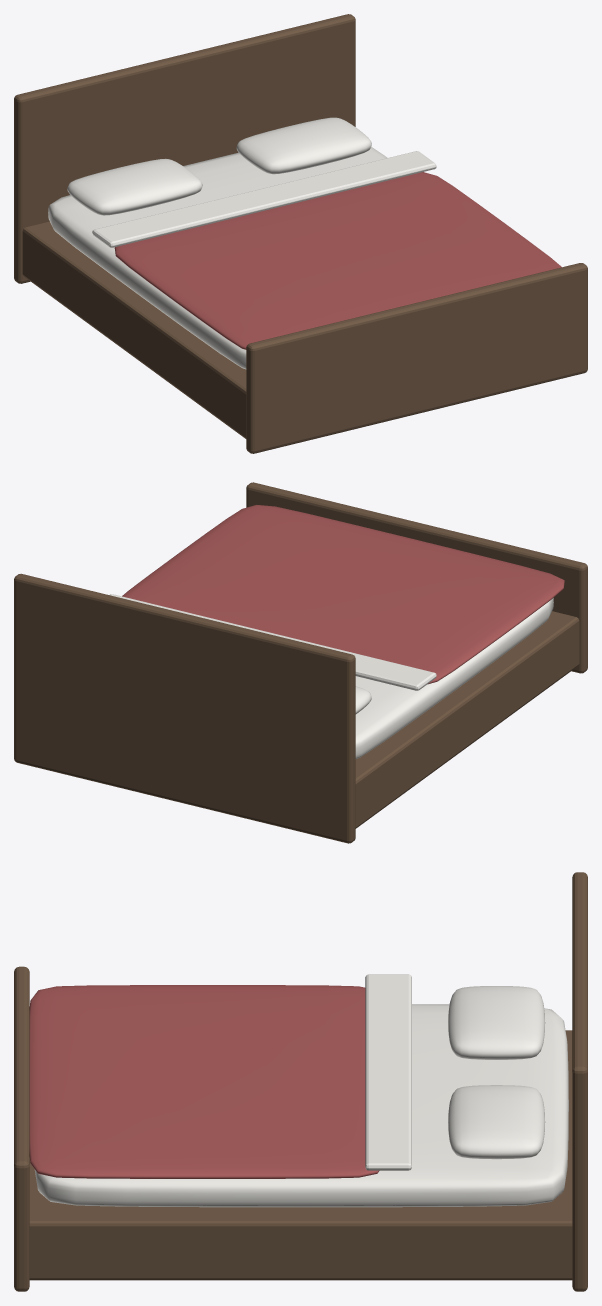
The model's file is bed_double.glb.
The picture shows the model from 3 angles, top to bottom: view 1: azimuth 30°, elevation 25°; view 2: azimuth 150°, elevation 25°; view 3: azimuth 270°, elevation 25°; orthographic projection. The views are drawn at different scales.
Visible parts, largest first — view 1: blanket, foot, head, frame, mattress, fold, pillow.001, pillow; view 2: head, blanket, frame, foot, mattress, fold; view 3: blanket, frame, mattress, fold, pillow.001, pillow, head, foot.
Part boxes in pixels (x1,y1,x2,y2): blanket: (114, 172, 561, 349); foot: (246, 263, 587, 453); head: (14, 14, 355, 283); frame: (22, 221, 246, 438); mattress: (48, 146, 387, 369); fold: (92, 151, 436, 247); pillow.001: (236, 117, 371, 174); pillow: (67, 158, 202, 215); head: (14, 573, 355, 843); blanket: (122, 505, 564, 684); frame: (355, 611, 579, 828); foot: (246, 482, 587, 673); mattress: (355, 598, 553, 758); fold: (109, 594, 436, 690); blanket: (29, 985, 379, 1178); frame: (29, 1030, 572, 1280); mattress: (34, 1004, 568, 1207); fold: (365, 974, 411, 1170); pillow.001: (448, 1085, 545, 1159); pillow: (448, 986, 545, 1059); head: (572, 872, 587, 1291); foot: (14, 966, 29, 1291).
Size of the model in its own units: 1.8 by 0.95 by 2.2.
